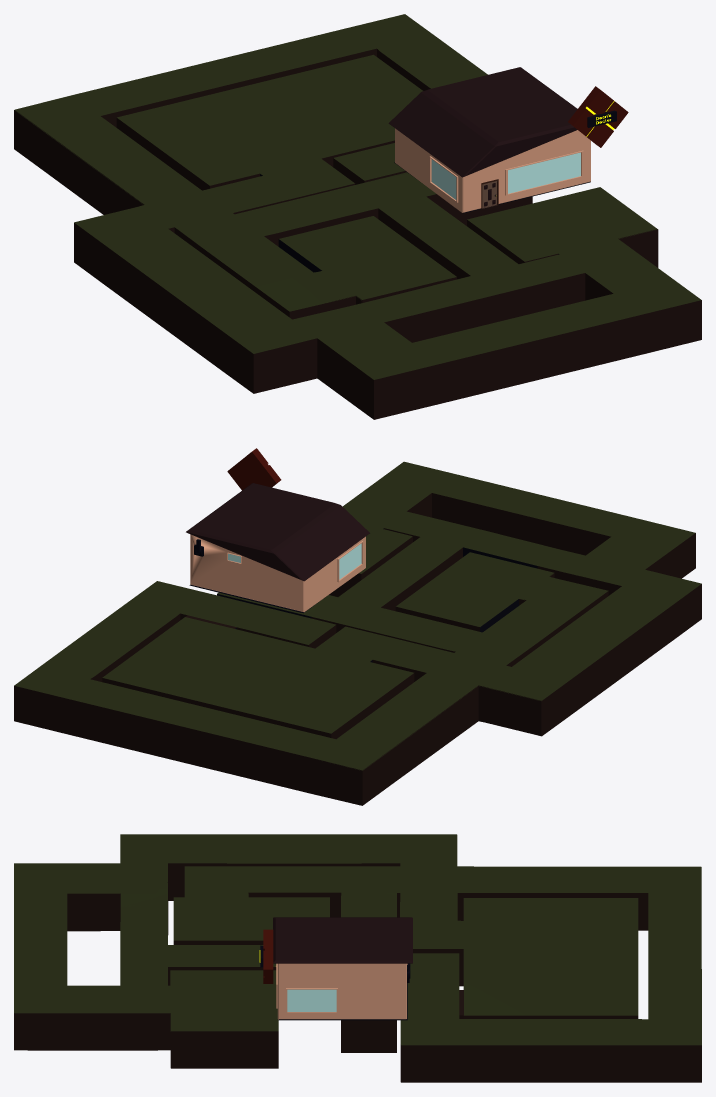
File: Dealership concept_v2.fbx
3 renders of one model, top to bottom at view 1: azimuth 30°, elevation 25°; view 2: azimuth 150°, elevation 25°; view 3: azimuth 270°, elevation 25°, orthographic. The views are drawn at different scales.
Visible parts, largest first — view 1: Basement, roof, Wall_Front, Wall_Left, Sign; view 2: Basement, roof, Wall_back, Wall_Left, Sign; view 3: Basement, Wall_right, roof, Sign.
Boxes of the visible parts, x1,y1,x2,y2 form: Basement: (14,14,701,419); roof: (388,67,577,177); Wall_Front: (463,130,590,213); Wall_Left: (395,128,462,212); Sign: (568,86,628,147); Basement: (14,461,701,805); roof: (186,483,369,581); Wall_back: (189,534,304,613); Wall_Left: (304,536,365,611); Sign: (227,448,281,490); Basement: (14,834,701,1082); Wall_right: (277,963,407,1020); roof: (273,917,412,963); Sign: (260,929,273,983).
Bounding box in the file's own units: 4514 × 1353 × 6216.
